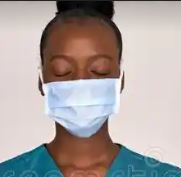with_facemask: (44, 76, 122, 136)
